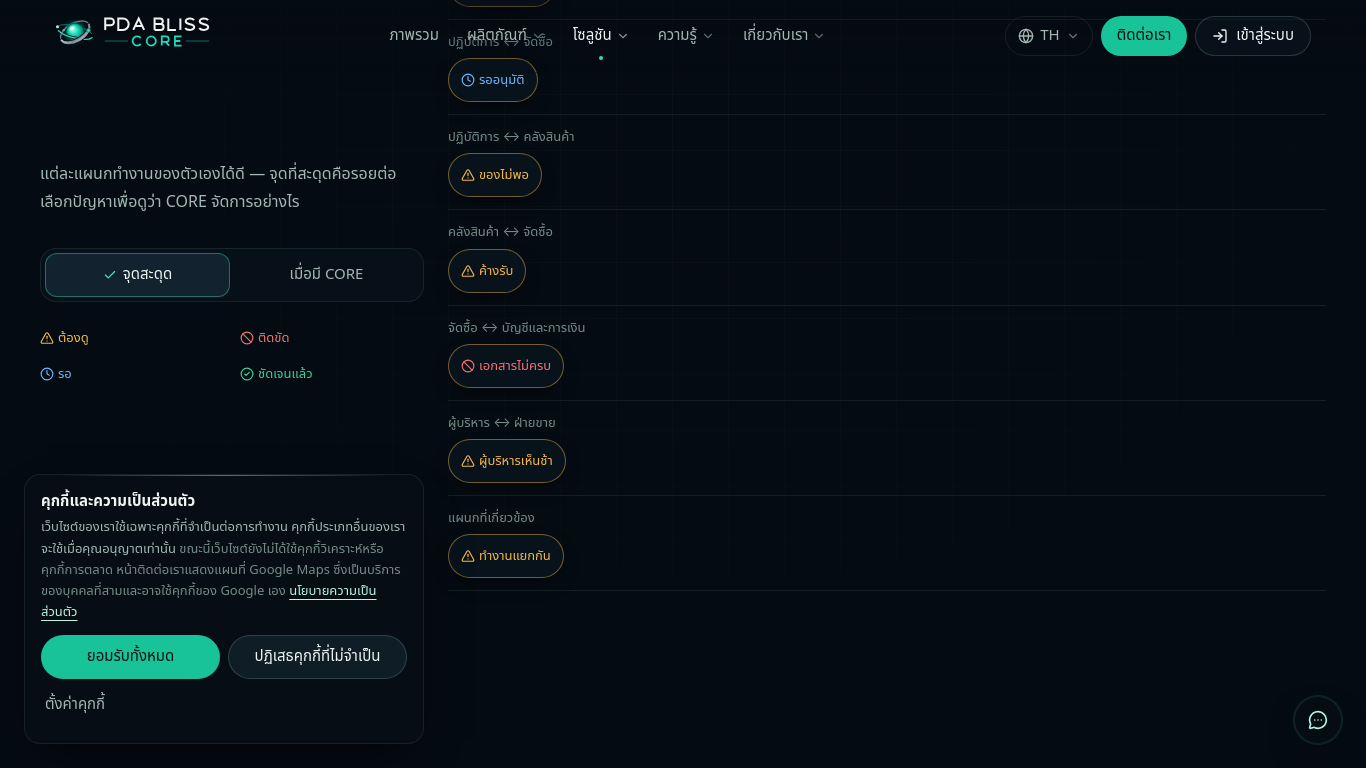
/solutions page › lists every friction on the problem map and resolves it with CORE
The image size is (1366, 768).
(page scrolled)
Check: the link "รออนุมัติ" is shown, box [448, 58, 538, 102]
Click the radio button labelled "เมื่อมี CORE" at point(326, 275), box [234, 253, 419, 297]
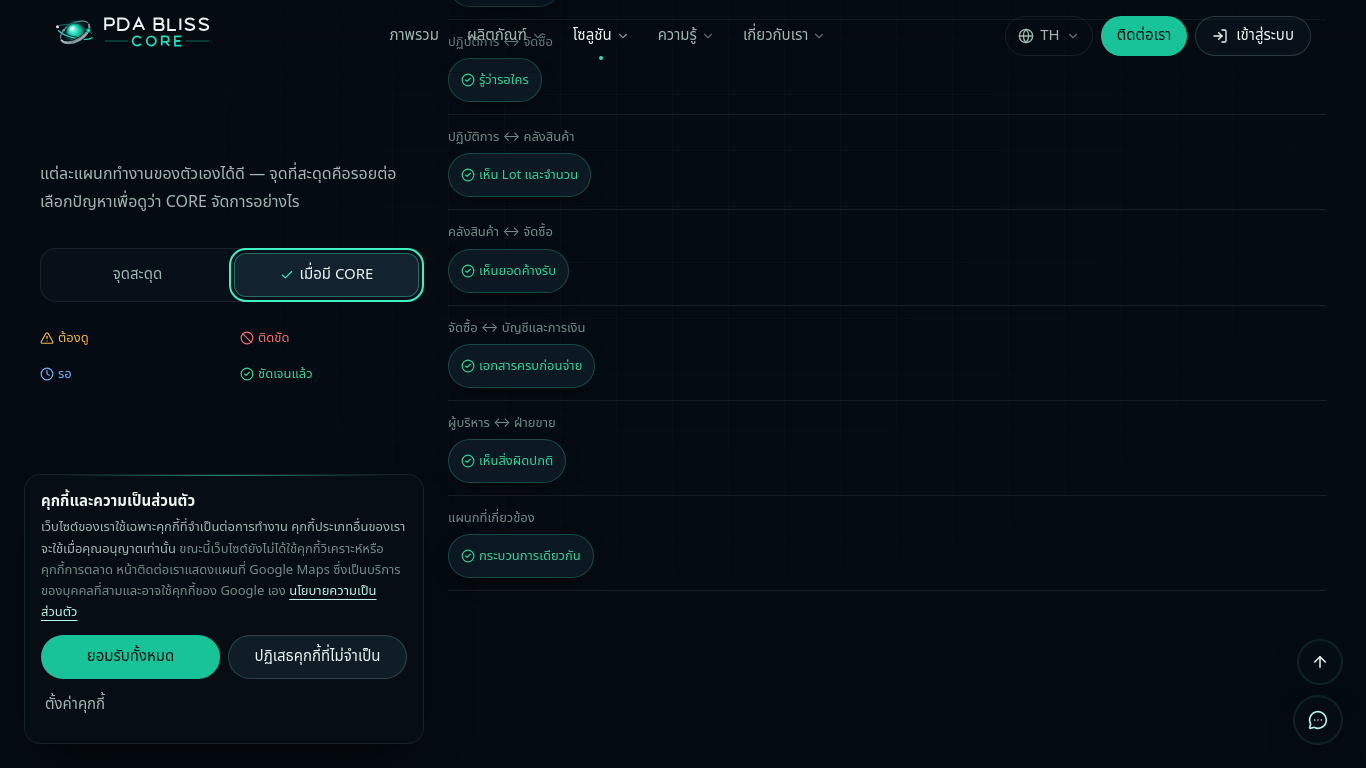
Check: the link "รู้ว่ารอใคร" is shown, box [448, 58, 542, 102]
